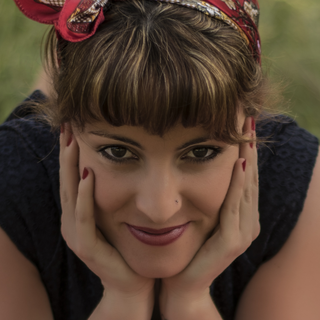eye: (95, 140, 145, 164), (177, 143, 226, 163)
